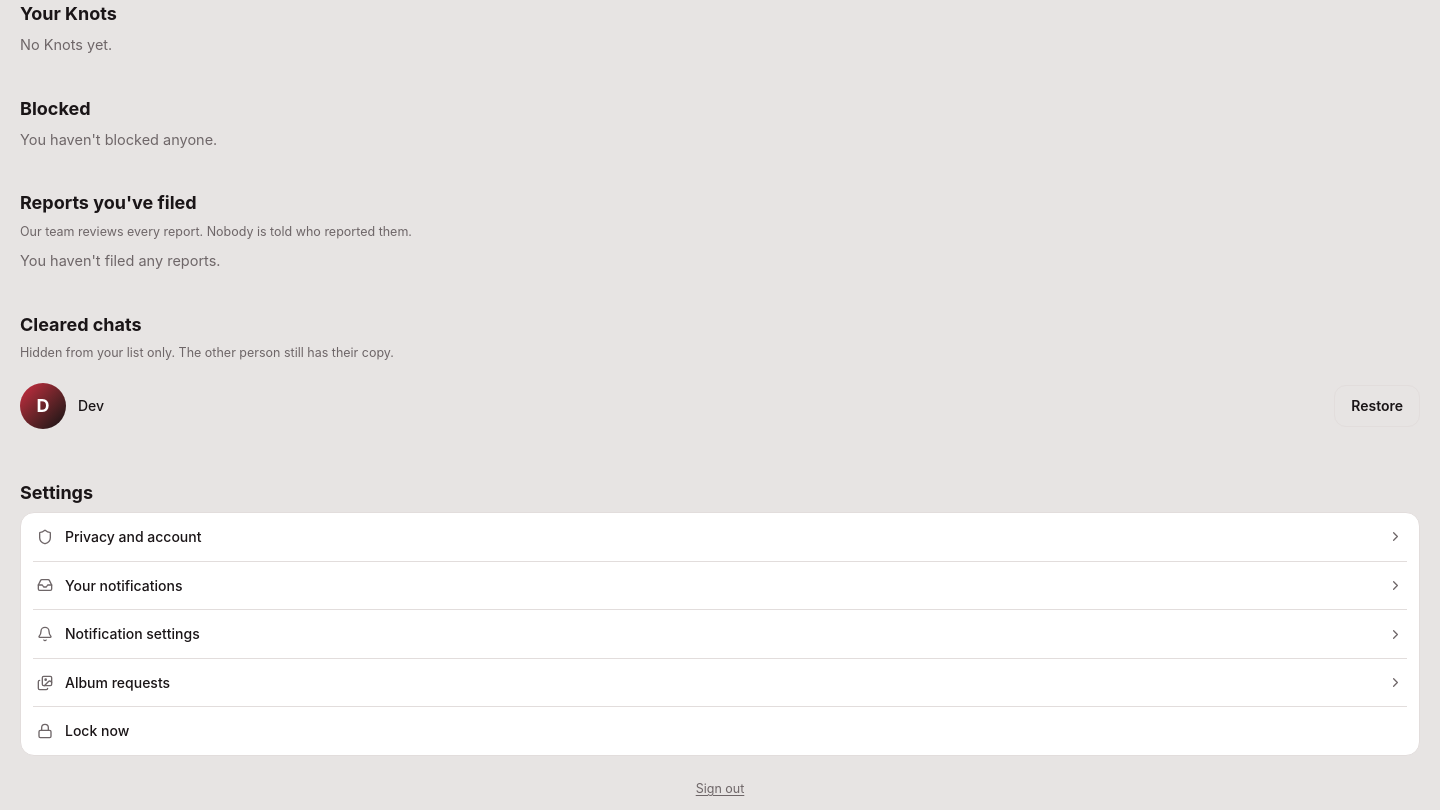
Test: the You tab (T-9.8) › restores a cleared chat, one at a time (D-912)
(page scrolled)
What coordinates should you click on to do the following:
click the button "Restore"
I would click on:
 (1377, 406)
Its box is [1334,385,1420,426].
(page scrolled)
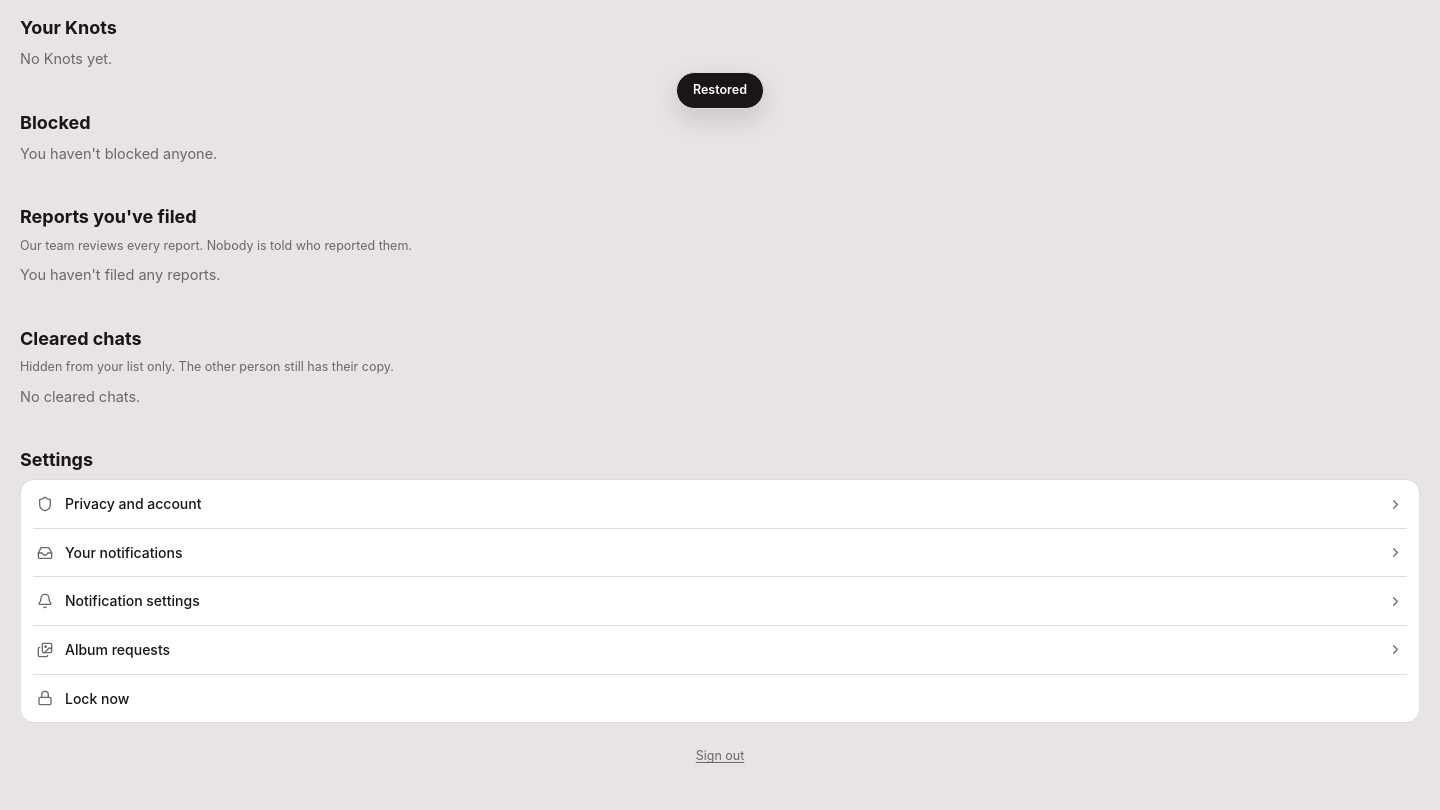
Expected: the text "Restored" is shown, [693,81,747,100]
Expected: the text "No cleared chats." is shown, [20,388,140,405]
